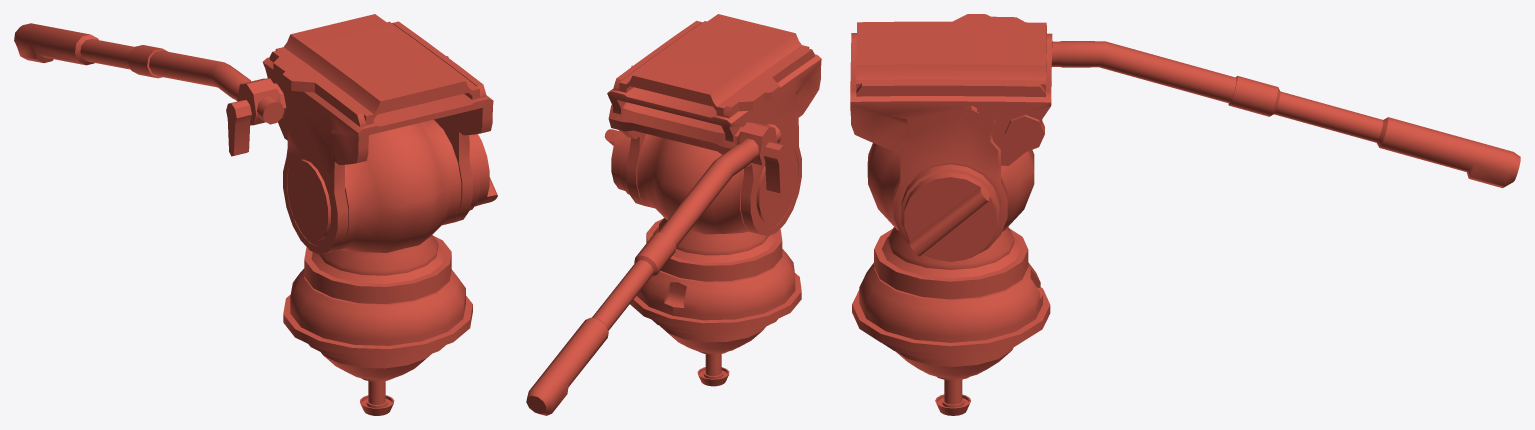
Rendered from Modern High End Tripod Head.fbx.
The picture shows the model from 3 angles, left to right: view 1: azimuth 30°, elevation 25°; view 2: azimuth 150°, elevation 25°; view 3: azimuth 270°, elevation 25°; orthographic projection. The views are drawn at different scales.
Visible parts, largest first — view 1: Cylinder.002; view 2: Cylinder.002; view 3: Cylinder.002.
Boxes of the visible parts, x1,y1,x2,y2 form: Cylinder.002: (14,14,497,415); Cylinder.002: (526,14,821,415); Cylinder.002: (850,14,1520,415).
Size of the model in its own units: 28.5 by 45.61 by 75.19.
